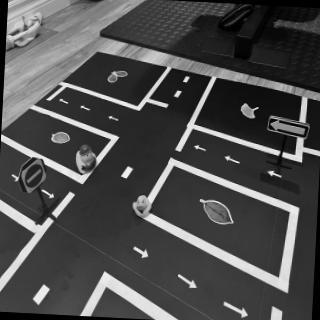duck_regular: (133, 194, 154, 222)
duck_specialty: (76, 144, 101, 178)
road_oneway: (223, 301, 252, 320), (177, 274, 200, 293), (223, 153, 244, 167), (133, 247, 152, 262), (42, 188, 58, 203), (193, 144, 209, 155), (11, 172, 23, 185), (80, 104, 93, 114), (59, 97, 71, 107), (109, 115, 122, 124)
sign_noentry: (21, 157, 51, 198)
sign_oneway_left: (268, 116, 311, 141)
